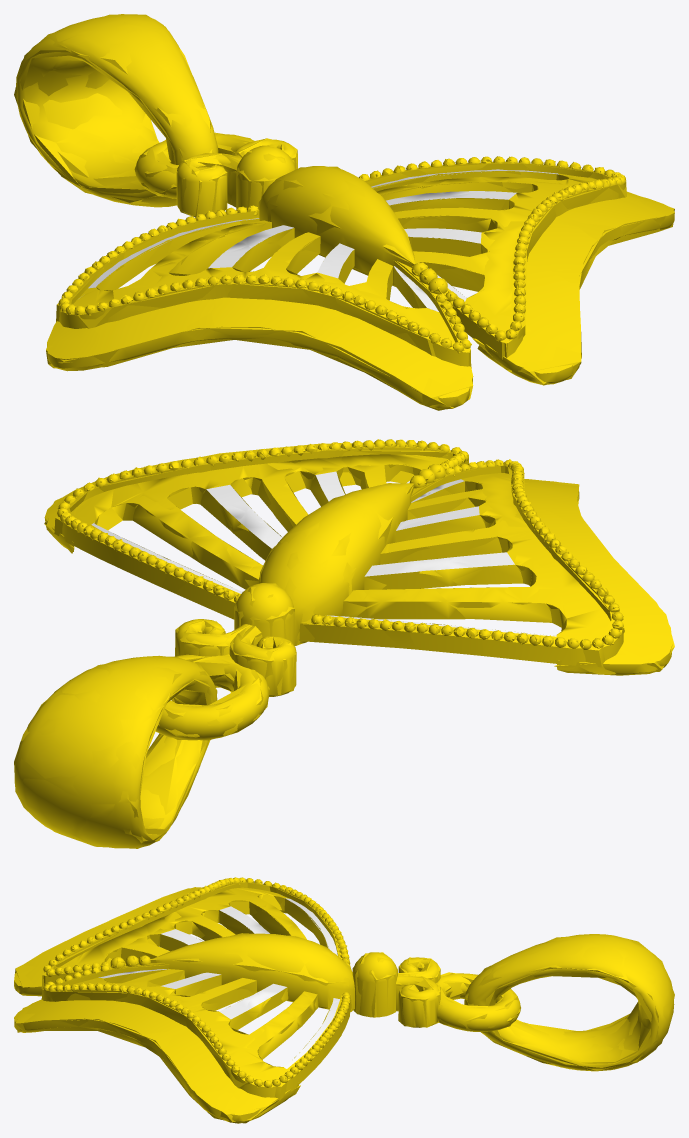
The picture shows the model from 3 angles, top to bottom: view 1: azimuth 30°, elevation 25°; view 2: azimuth 150°, elevation 25°; view 3: azimuth 270°, elevation 25°; orthographic projection. The views are drawn at different scales.
Parts seen in each view (by area): view 1: highPolyMesh, lowPolyMesh; view 2: highPolyMesh, lowPolyMesh; view 3: highPolyMesh, lowPolyMesh.
Part boxes in pixels (x1=…): highPolyMesh: x1=16, y1=14, x2=674, y2=409; lowPolyMesh: x1=14, y1=14, x2=674, y2=410; highPolyMesh: x1=14, y1=439, x2=672, y2=848; lowPolyMesh: x1=14, y1=439, x2=674, y2=848; highPolyMesh: x1=14, y1=877, x2=674, y2=1123; lowPolyMesh: x1=14, y1=878, x2=674, y2=1123.
Size of the model in its own units: 0.0189 by 0.00492 by 0.0234.
